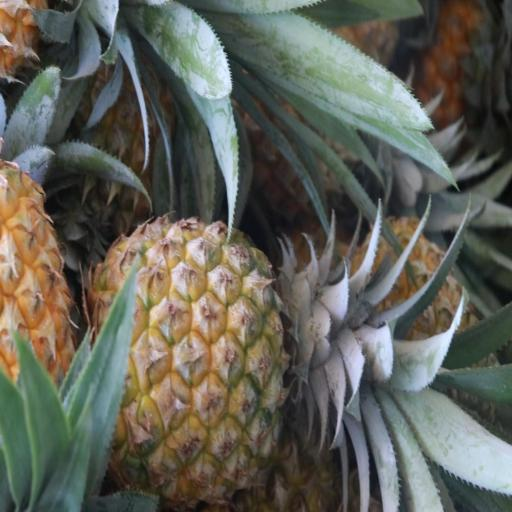Pineapple - v8 v1: (98, 220, 307, 499)
